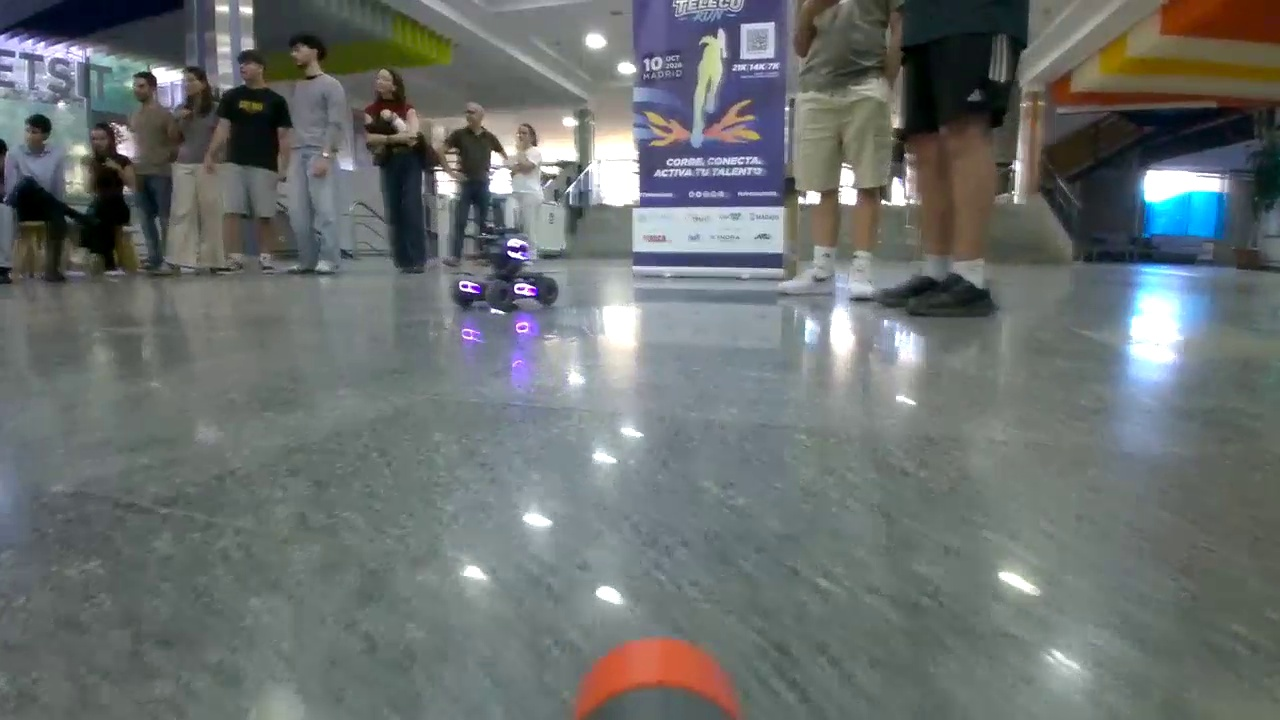robot: (450, 235, 558, 305)
